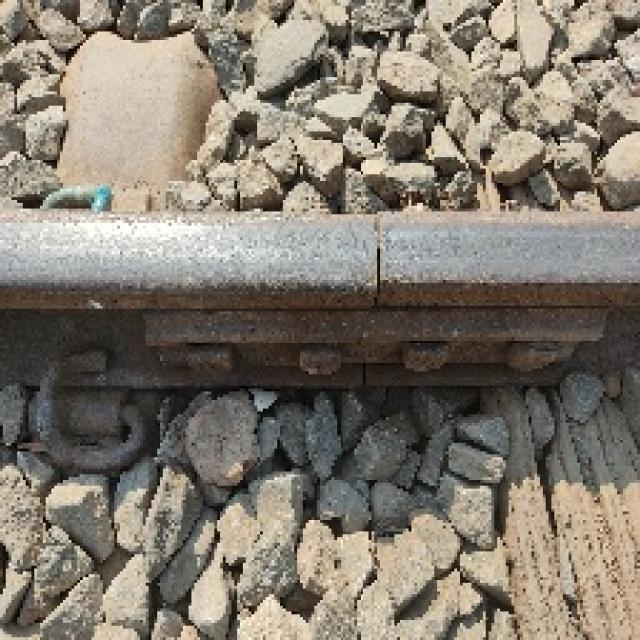Good Fasteners: (31, 351, 154, 471), (43, 186, 109, 209)
Good Joint: (143, 306, 606, 377)
